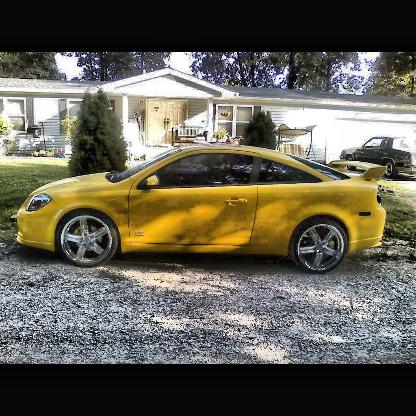Chevrolet Cobalt SS 2010: (16, 145, 390, 278)
